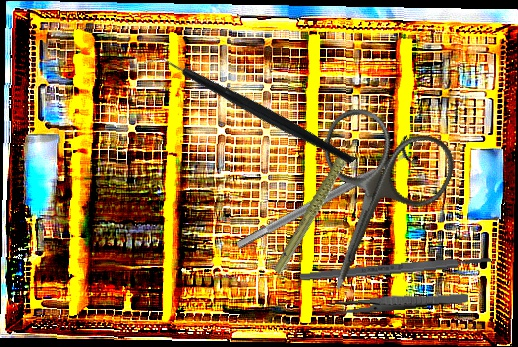Chopper: (143, 0, 356, 222)
Dressing Forceps: (328, 288, 469, 317)
Fixation Ring: (230, 134, 421, 259)
Handpiece: (249, 136, 387, 277)
Iris Scissors: (273, 99, 465, 315)
Scalpel Handle: (299, 254, 492, 283)
